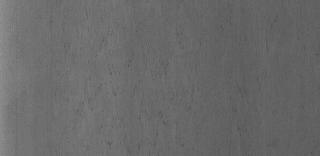silk spot: (68, 20, 302, 156)
